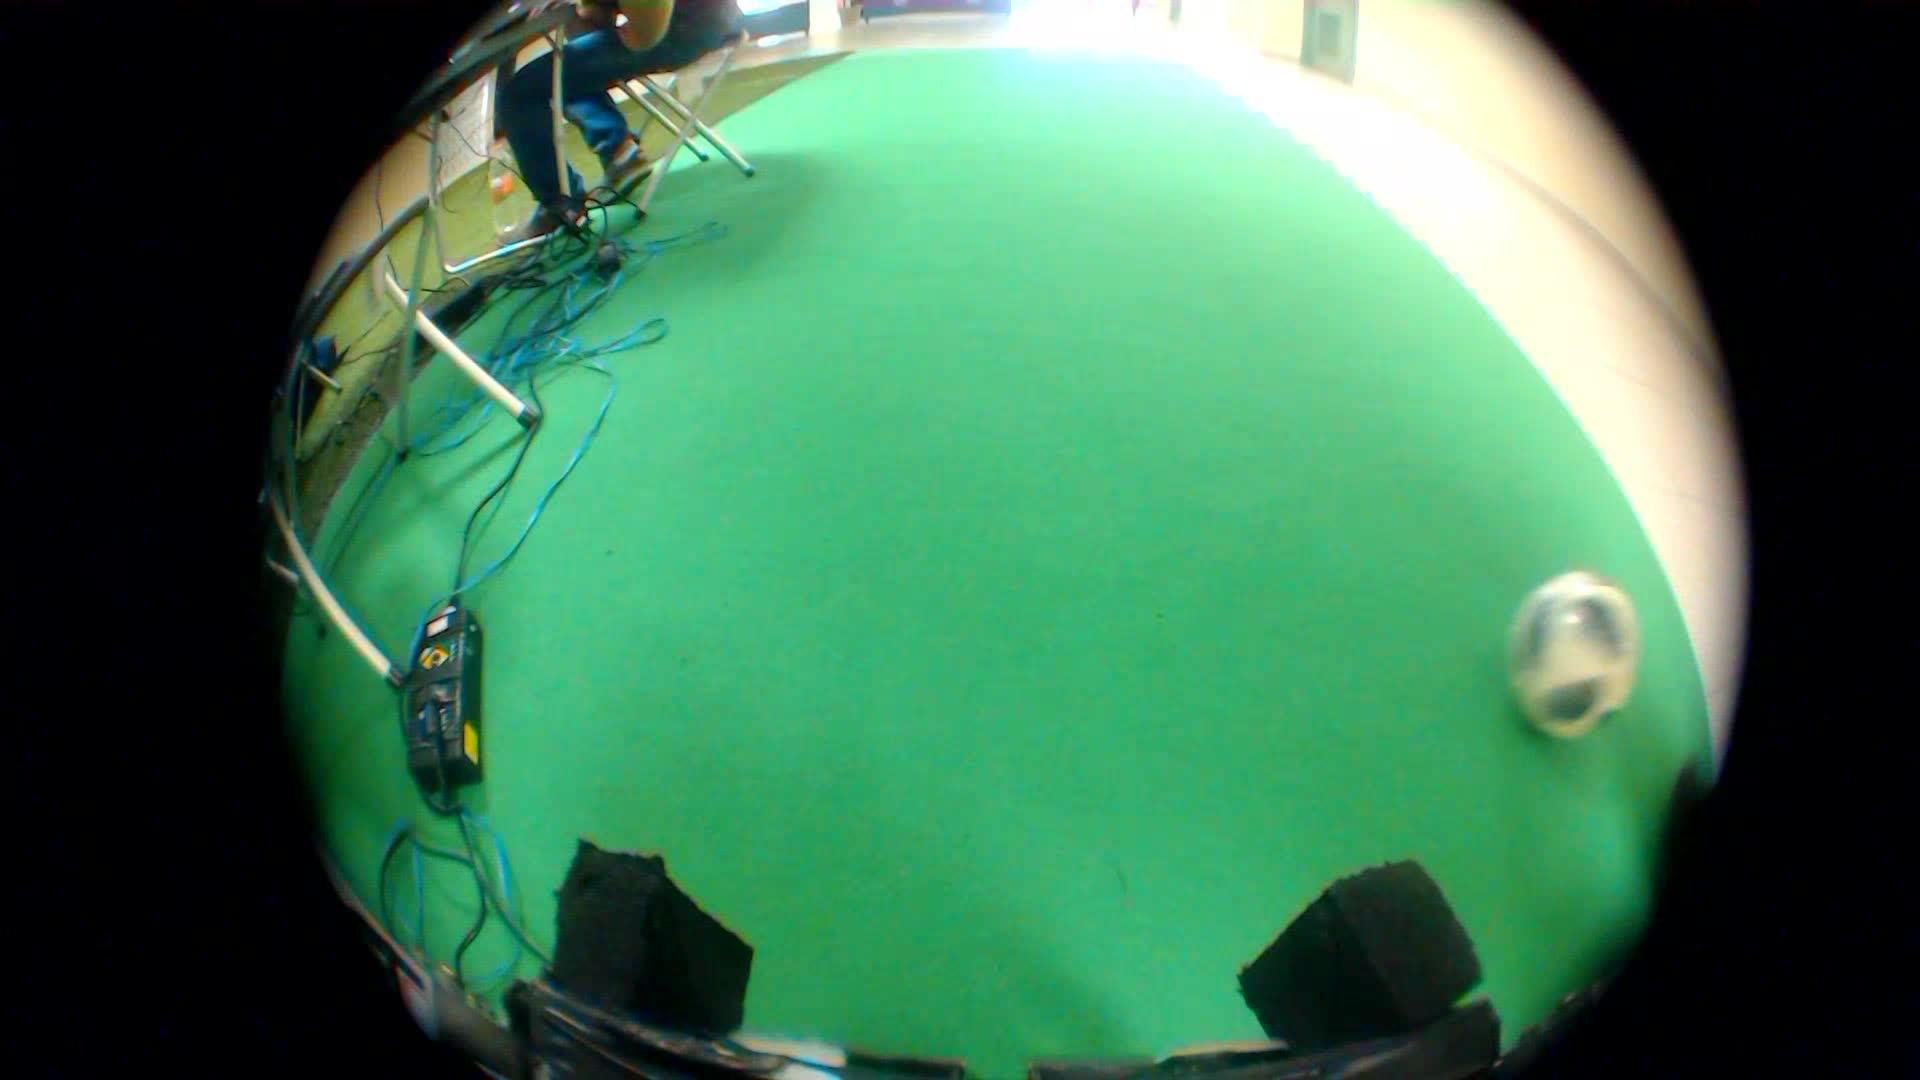ball: (1487, 553, 1671, 748)
